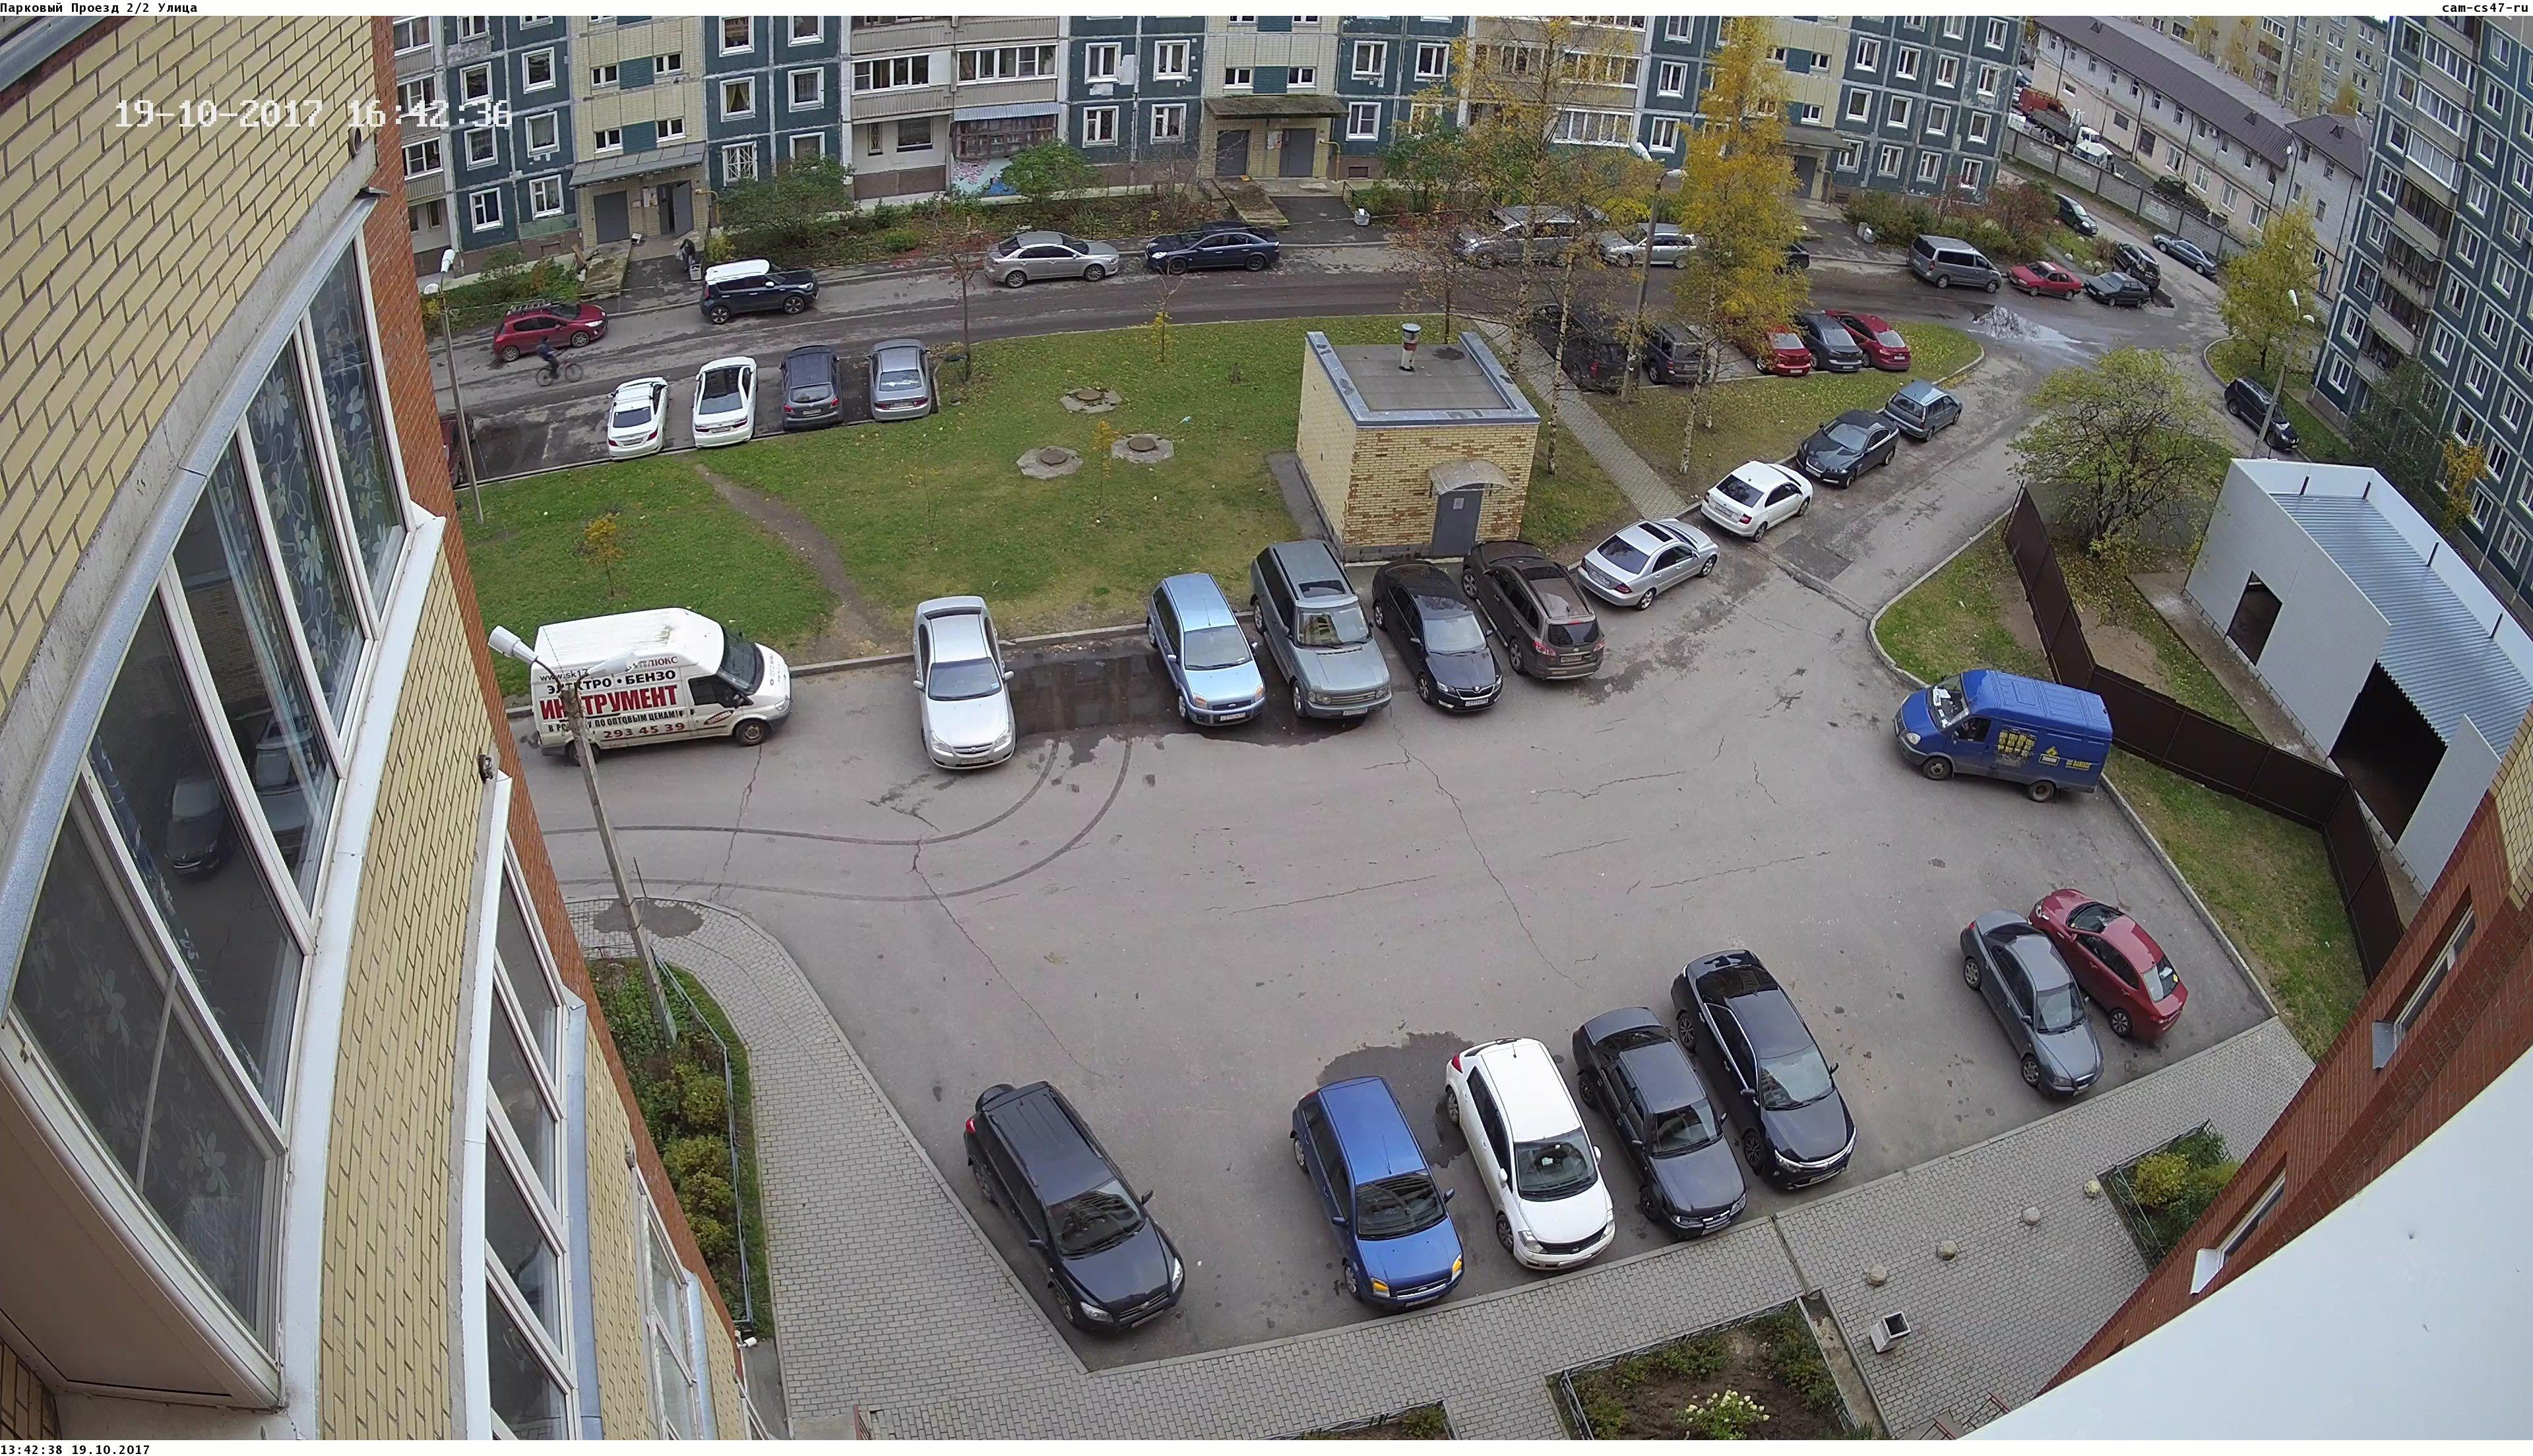empty: (966, 1085, 1221, 1339), (1588, 967, 1788, 1237), (529, 602, 814, 769), (1291, 1058, 1480, 1308), (1679, 957, 1881, 1192), (1961, 896, 2183, 1106), (1454, 1035, 1627, 1268), (1896, 668, 2131, 807), (1260, 551, 1413, 732), (910, 600, 1044, 778), (1155, 571, 1291, 734), (1393, 562, 1512, 718), (1489, 551, 1625, 687), (1576, 518, 1714, 605), (1701, 458, 1815, 536), (851, 339, 948, 423), (978, 230, 1110, 291), (685, 360, 776, 447), (1155, 228, 1286, 285), (1616, 318, 1729, 384), (767, 350, 856, 431), (1804, 417, 1905, 487), (595, 383, 682, 459), (1827, 310, 1917, 369), (1889, 386, 1975, 447), (1731, 324, 1821, 377), (2074, 259, 2159, 313), (2001, 257, 2074, 299)
occupied: (1148, 1099, 1308, 1310), (1853, 1023, 1995, 1134), (792, 659, 922, 774), (1026, 628, 1148, 745), (842, 261, 945, 310), (1948, 360, 2011, 417)
